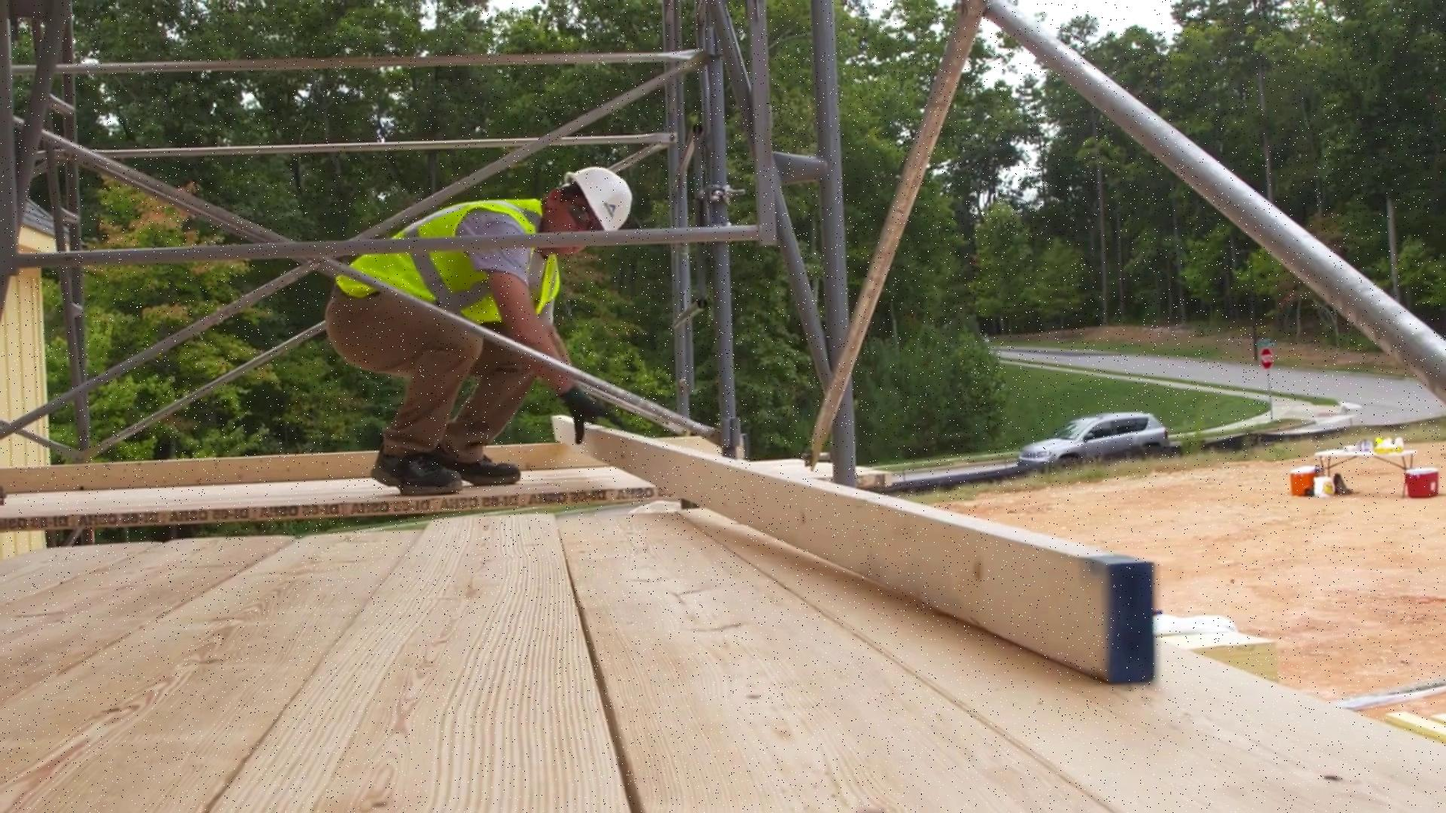Hard_hat: (568, 156, 631, 238)
Vest: (342, 194, 563, 315)
